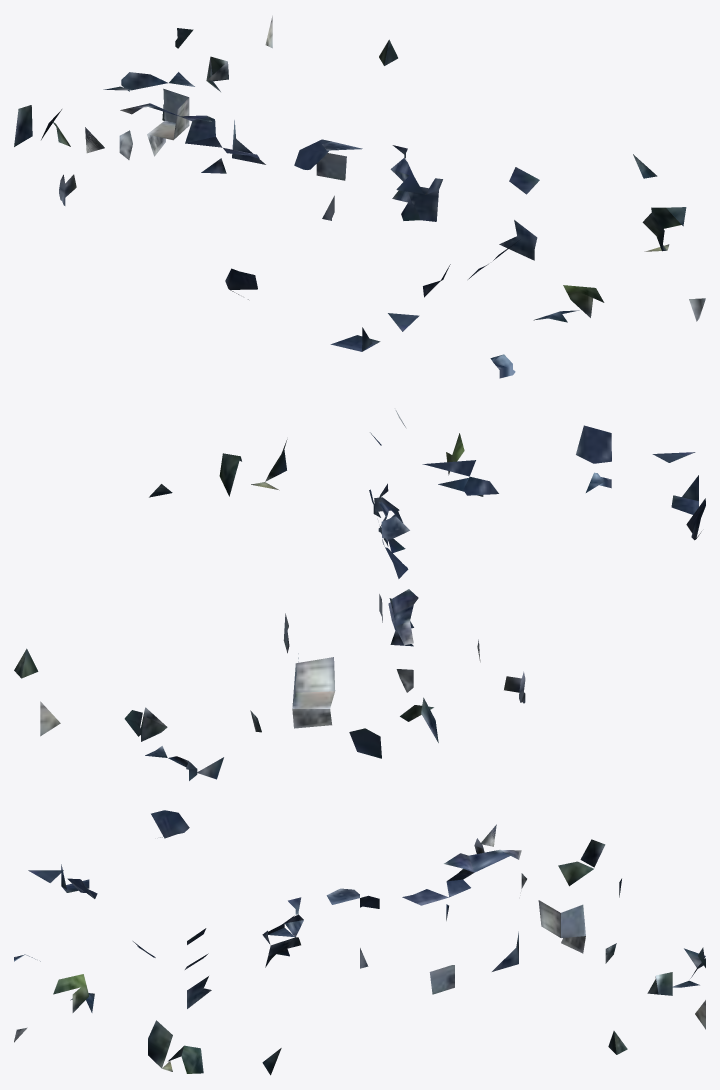
The picture shows the model from 3 angles, top to bottom: view 1: azimuth 30°, elevation 25°; view 2: azimuth 150°, elevation 25°; view 3: azimuth 270°, elevation 25°; orthographic projection. The views are drawn at different scales.
Parts seen in each view (by area): view 1: 304362727043616346_1; view 2: 304362727043616346_1; view 3: 304362727043616346_1.
Part boxes in pixels (x1=…): 304362727043616346_1: x1=14, y1=15, x2=705, y2=378; 304362727043616346_1: x1=14, y1=410, x2=705, y2=780; 304362727043616346_1: x1=14, y1=810, x2=705, y2=1075.
Bounding box in the file's own units: 109 × 22.78 × 153.
1 material, 1 textured.
